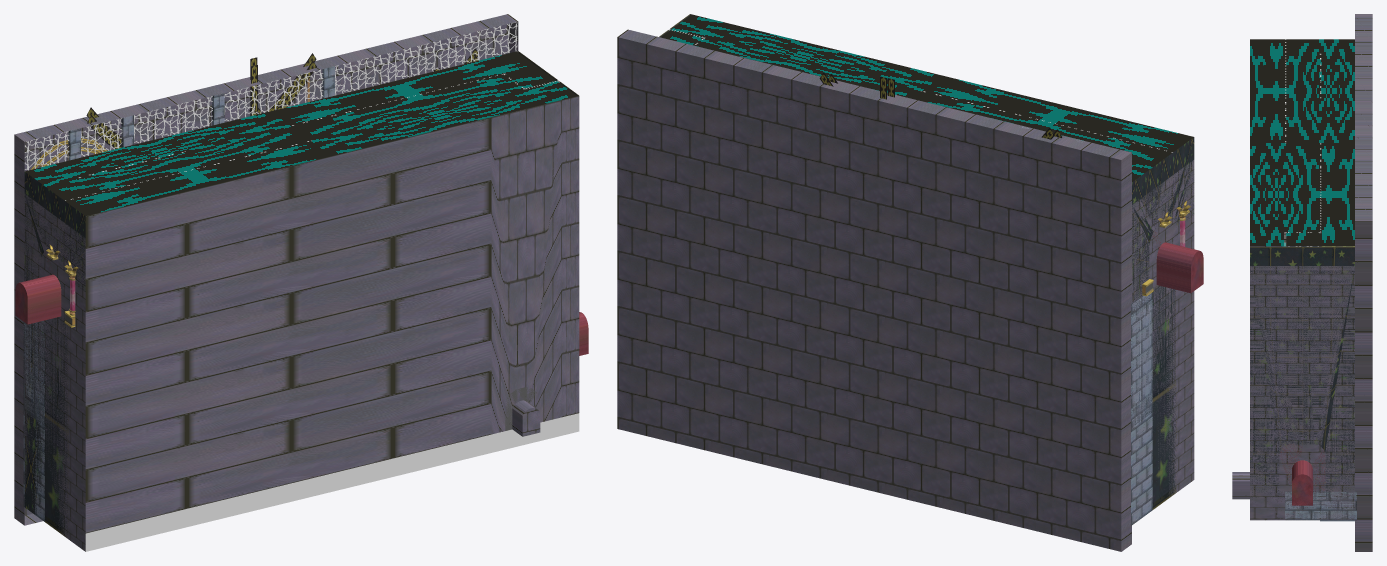
The model's file is las_22.dae.
The picture shows the model from 3 angles, left to right: view 1: azimuth 30°, elevation 25°; view 2: azimuth 150°, elevation 25°; view 3: azimuth 270°, elevation 25°; orthographic projection. The views are drawn at different scales.
Visible parts, largest first — view 1: A_u_kabe_part1, polySurface1_q00002, polySurface109_q00097, polySurface449, polySurface1_q00022, S_yuka, polySurface110_q00092, polySurface97_q00102_part1, S_l_bero_03_part1, polySurface97_q00031_part1, A_l; view 2: polySurface109_q00097, polySurface1_q00002, polySurface449, polySurface1_q00022, polySurface97_q00102_part1, polySurface97_q00031_part1, S_l_bero_03_part1; view 3: polySurface450, polySurface1_q00002, polySurface1_q00024, polySurface109_q00097, polySurface91_q00101_part1, S_r_bero_02_part1, A_u_kabe_part1, polySurface364_q00025_part1.
Boxes of the visible parts, x1,y1,x2,y2 form: A_u_kabe_part1: (85,96,579,533); polySurface1_q00002: (25,51,576,215); polySurface109_q00097: (14,14,518,525); polySurface449: (24,194,85,551); polySurface1_q00022: (24,172,85,537); S_yuka: (85,413,579,551); polySurface110_q00092: (24,22,517,170); polySurface97_q00102_part1: (23,321,44,521); S_l_bero_03_part1: (15,274,61,324); polySurface97_q00031_part1: (23,322,44,424); A_l: (15,275,61,324); polySurface109_q00097: (617,29,1131,551); polySurface1_q00002: (661,14,1193,182); polySurface449: (1132,160,1194,496); polySurface1_q00022: (1132,137,1194,509); polySurface97_q00102_part1: (1131,292,1152,525); polySurface97_q00031_part1: (1131,293,1152,427); S_l_bero_03_part1: (1156,242,1203,293); polySurface450: (1250,266,1354,520); polySurface1_q00002: (1250,39,1354,246); polySurface1_q00024: (1250,247,1354,505); polySurface109_q00097: (1355,14,1372,551); polySurface91_q00101_part1: (1285,491,1356,520); S_r_bero_02_part1: (1292,460,1312,505); A_u_kabe_part1: (1232,472,1249,499); polySurface364_q00025_part1: (1280,444,1325,491).
Size of what is drawn, in the model's own units: 159 by 114 by 39.99.
